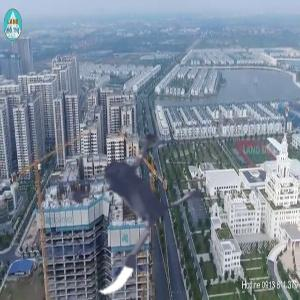drone: (21, 103, 218, 300)
